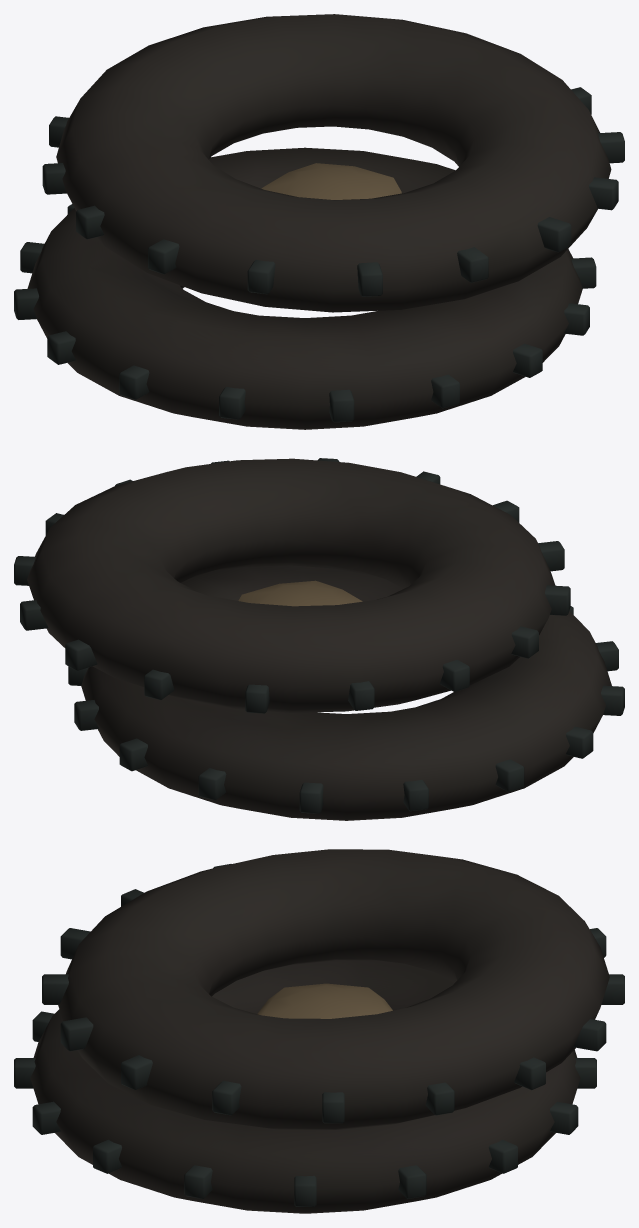
Rendered from haul_tyre_b.glb.
The picture shows the model from 3 angles, top to bottom: view 1: azimuth 30°, elevation 25°; view 2: azimuth 150°, elevation 25°; view 3: azimuth 270°, elevation 25°; orthographic projection. The views are drawn at different scales.
Parts seen in each view (by area): view 1: Surface; view 2: Surface; view 3: Surface.
Boxes of the visible parts, bbox=[...] form: Surface: bbox=[14, 14, 624, 429]; Surface: bbox=[14, 458, 624, 820]; Surface: bbox=[14, 849, 624, 1213].
Bounding box in the file's own units: 4.5 × 1.62 × 4.35.
